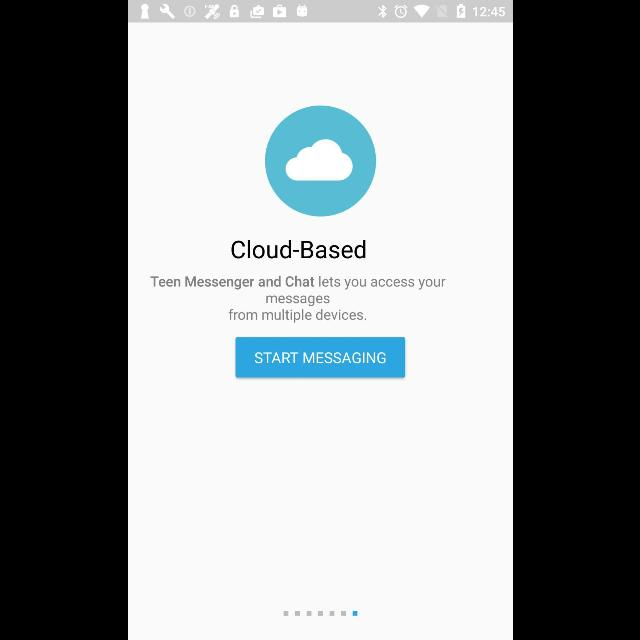image: (264, 106, 376, 217)
pageindicator: (282, 610, 358, 616)
text: (150, 276, 446, 324), (231, 240, 365, 260)
textbutton: (235, 337, 405, 377)
uppertaskbar: (128, 1, 512, 23)
